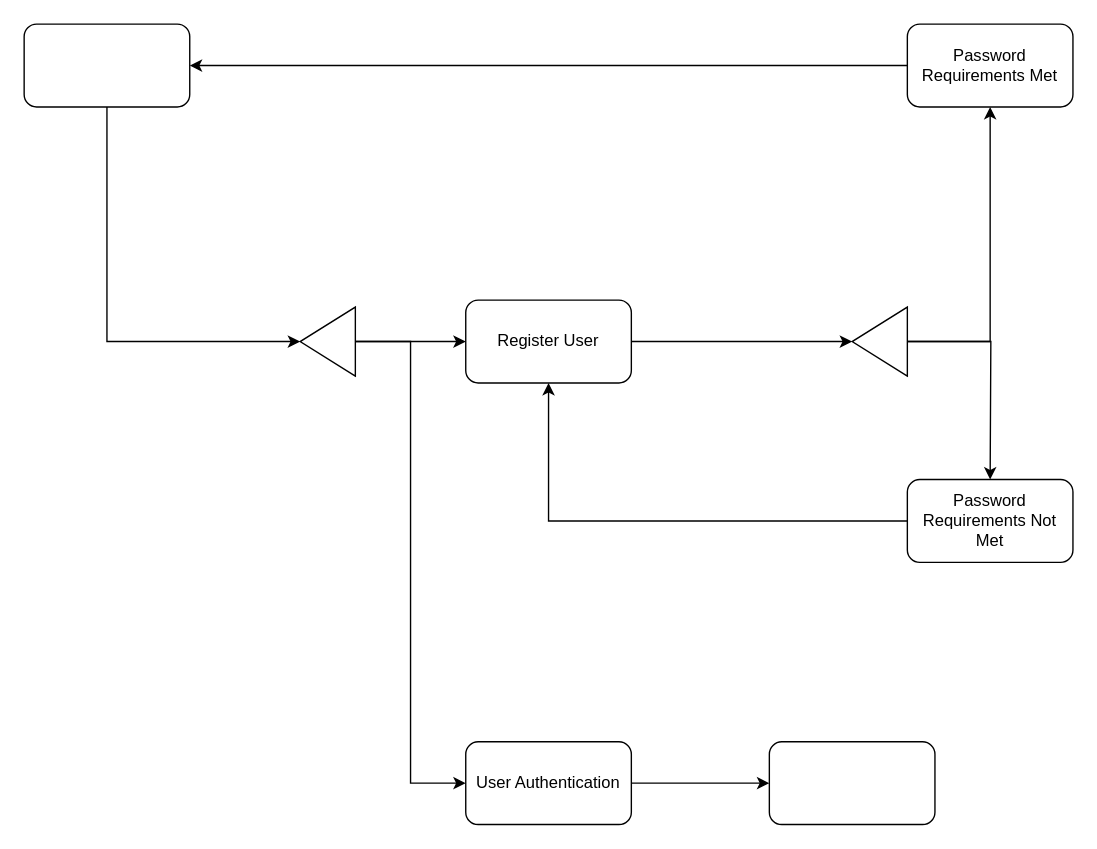
The diagram is 1097 pixels wide and 849 high, and some of its shapes have lost their labels. Each missing label, with the centre of its shape:
"User Login" goes at point 851,782.
"User Login/Registration Page" goes at point 106,65.
